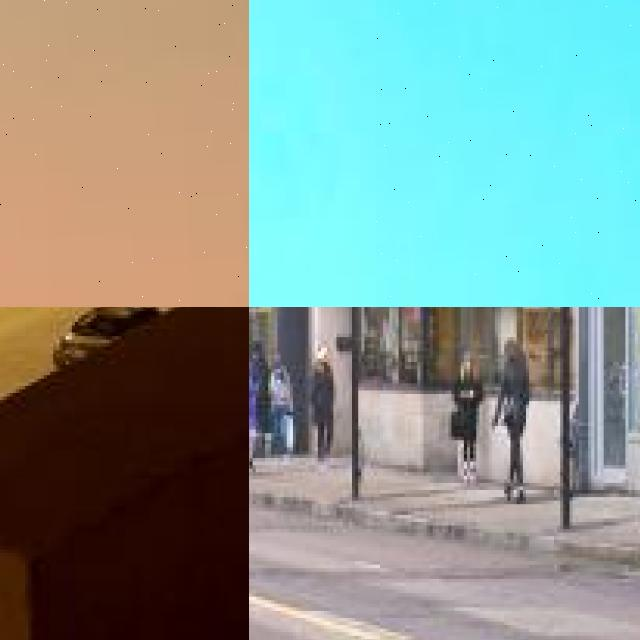street light: (375, 0, 640, 307), (0, 0, 249, 307), (560, 307, 640, 532), (348, 307, 420, 500)
